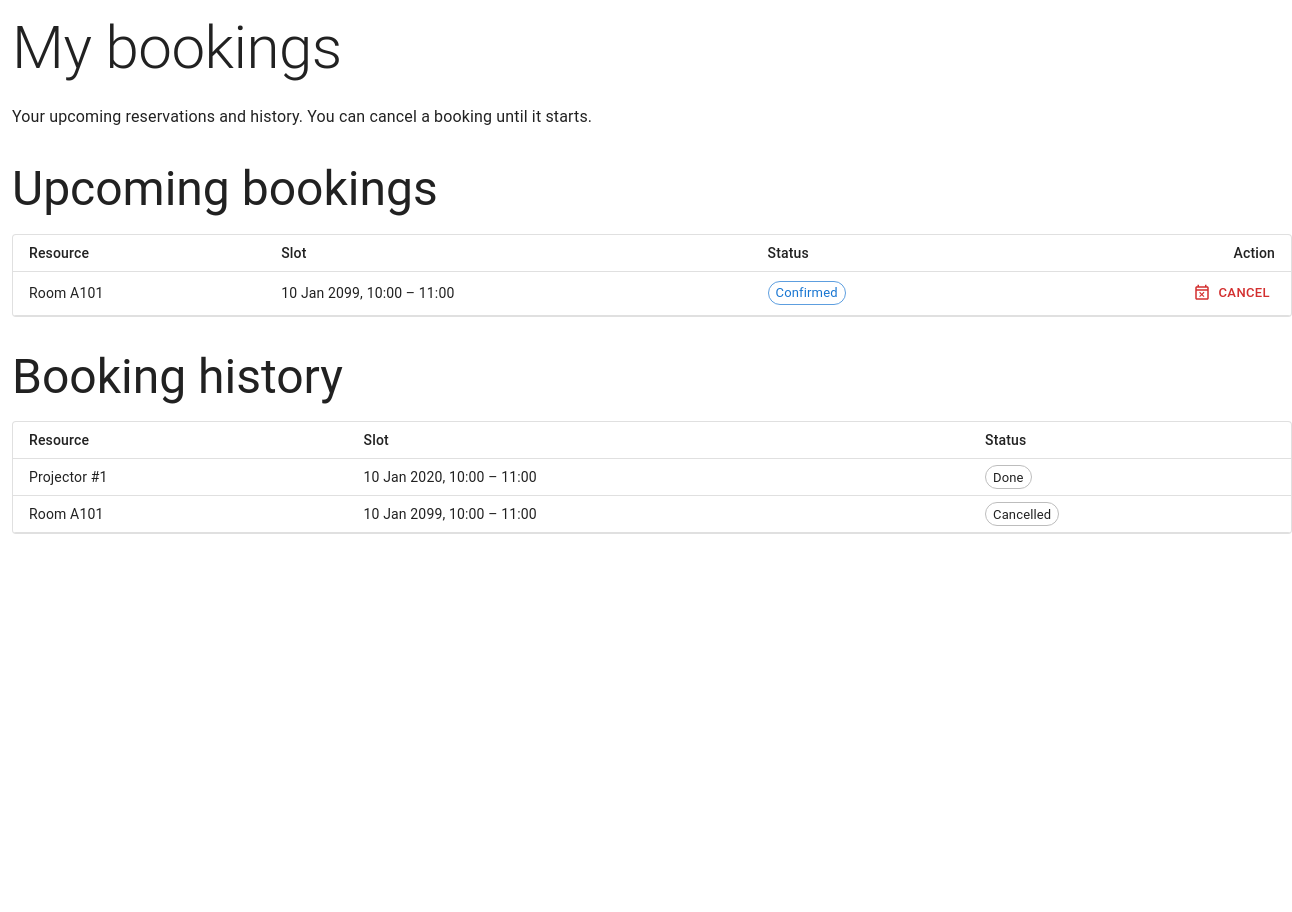
DashboardPage (US-08) › cancels a booking in one click and refreshes the list
What coordinates should you click on to do the following:
click the button with aria-label "Cancel booking: Room A101"
I would click on:
 (1232, 293)
Its box is [1190, 278, 1275, 309].
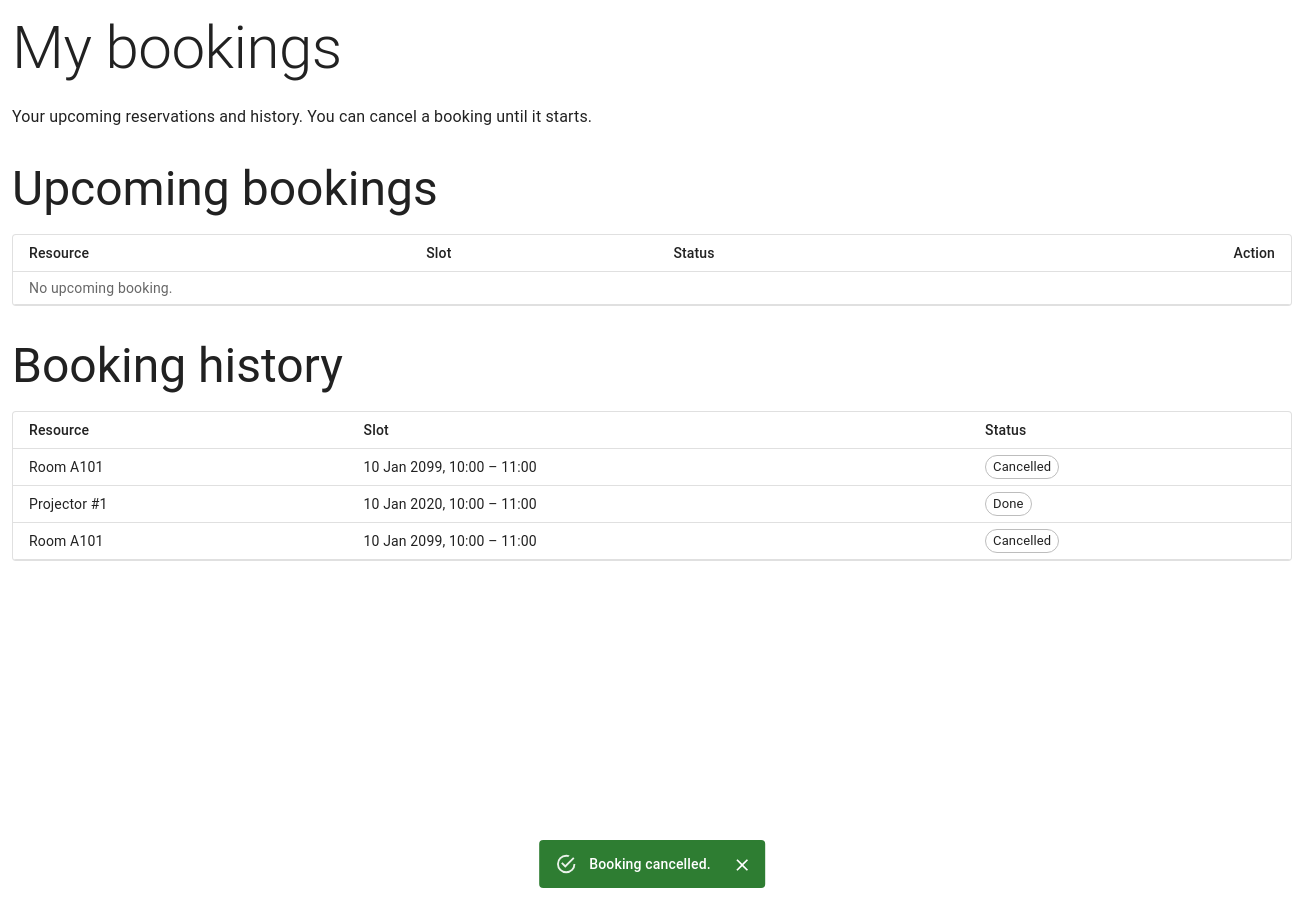
Expected: the text "Booking cancelled." is shown, [589, 856, 711, 872]
Expected: the text "No upcoming booking." is shown, [13, 271, 1291, 304]
